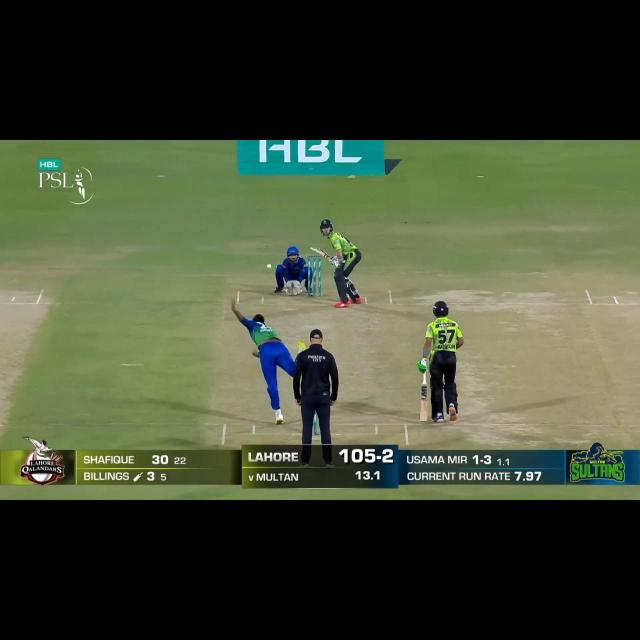bat: (310, 246, 339, 266), (418, 383, 429, 420)
toe: (415, 414, 430, 424), (309, 246, 320, 253)
